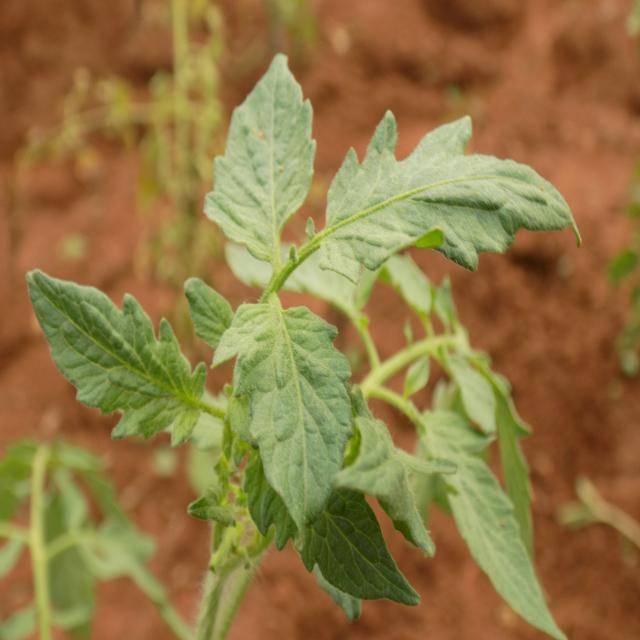tomato_healthy: (322, 114, 580, 280), (29, 272, 208, 450), (218, 298, 352, 532), (208, 51, 316, 257)
